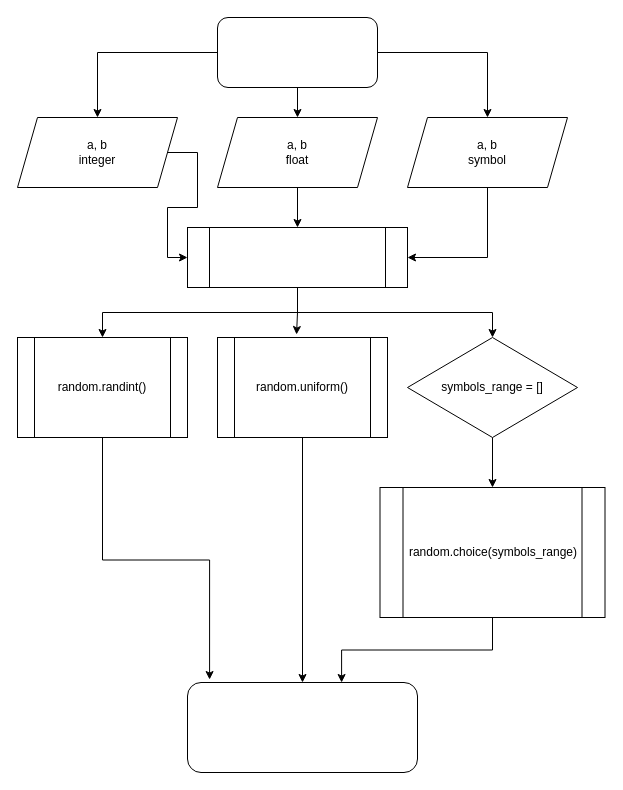
This 623x790 diagram has some shape labels left out. Each missing label, with the centre of its shape:
"import random" belongs at (297,257).
"КОНЕЦ" belongs at (302,727).
"НАЧАЛО" belongs at (297,52).
